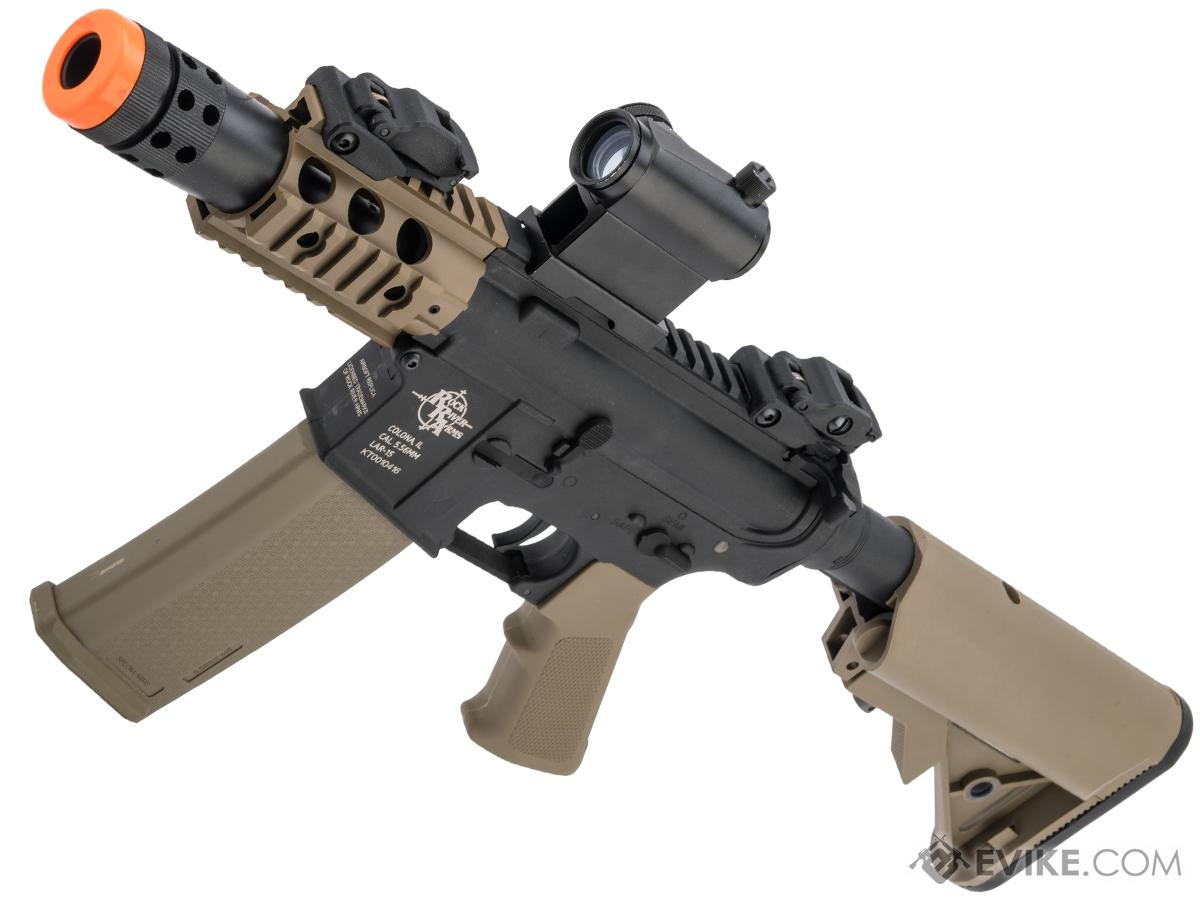m4_carbine: (10, 158, 838, 795)
